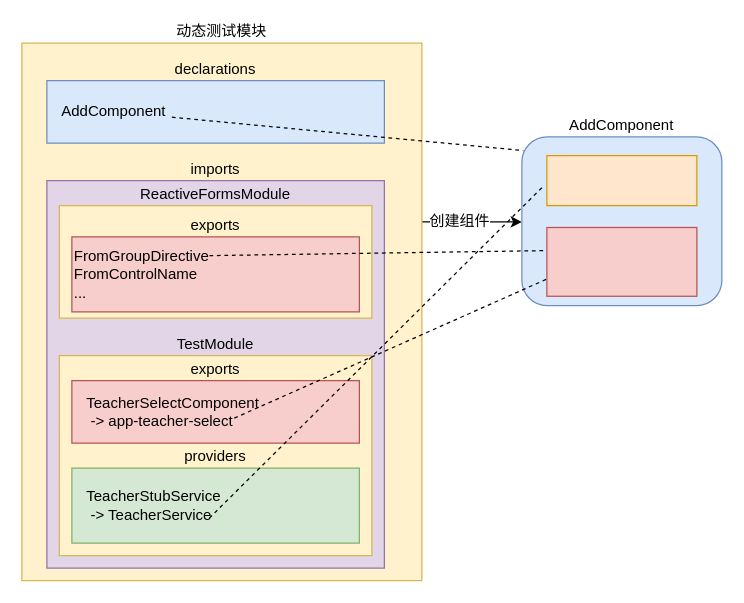
The diagram is 744 pixels wide and 603 high, and some of its shapes have lost their labels. Here are the shapes that lost their labels. From the top down, the centre of each, then its label:
At [621,180]: "TeacherService".
At [621,261]: "FromGroup <app-teacher-select".
